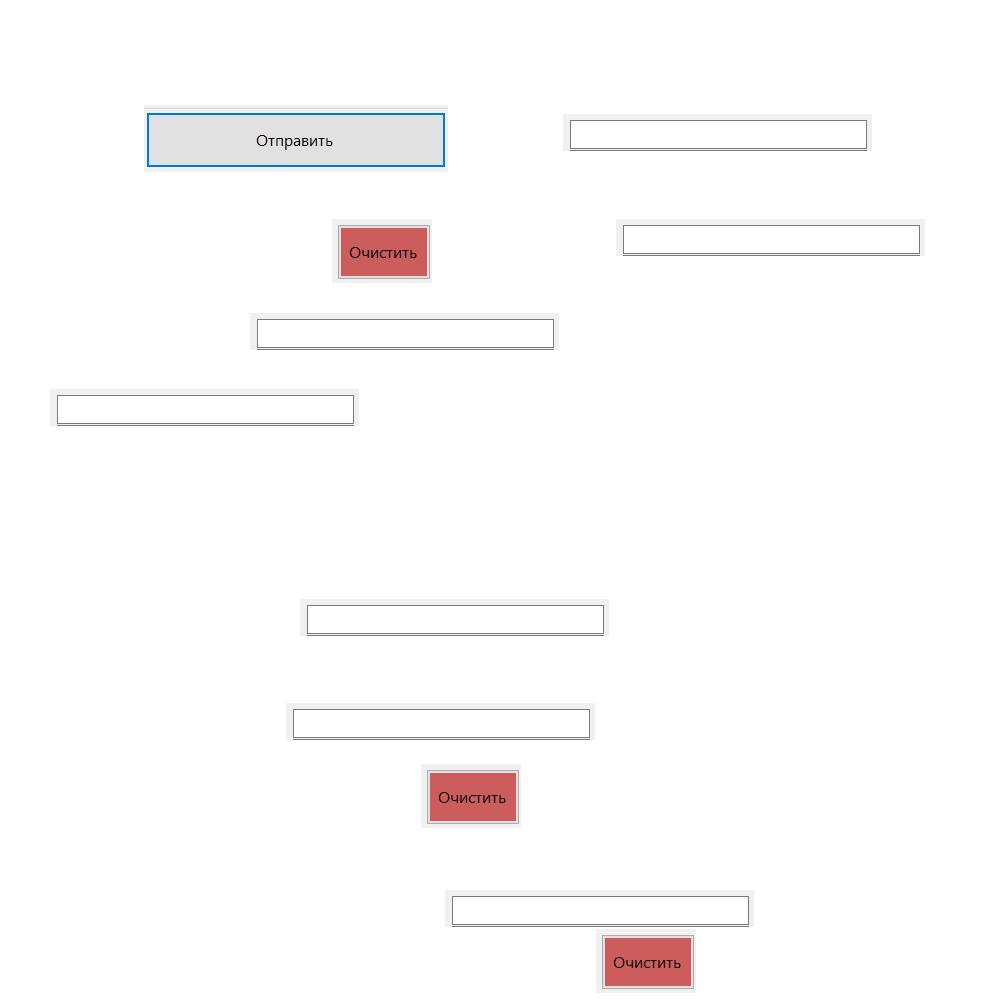Button: (144, 105, 448, 172), (332, 219, 432, 283), (421, 764, 521, 828), (596, 929, 696, 993)
EditText-: (50, 389, 359, 426), (445, 890, 754, 927), (300, 599, 609, 636), (563, 114, 872, 151), (616, 219, 925, 256), (250, 313, 559, 350), (286, 703, 595, 740)
